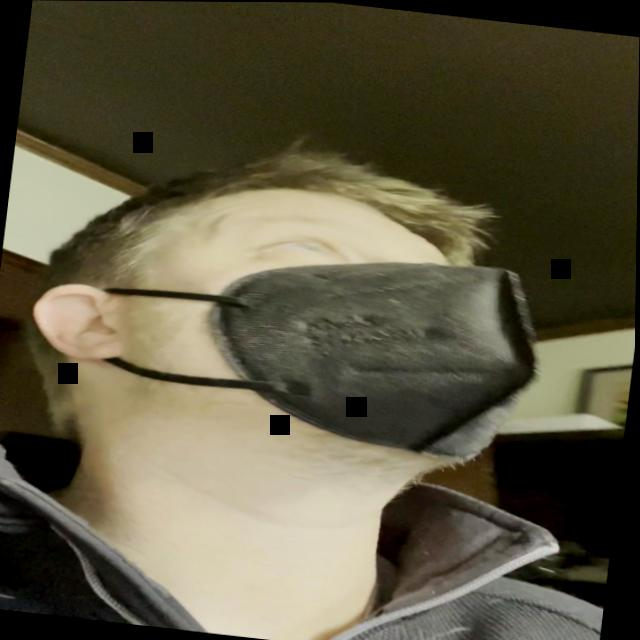Mask: (82, 167, 561, 481)
